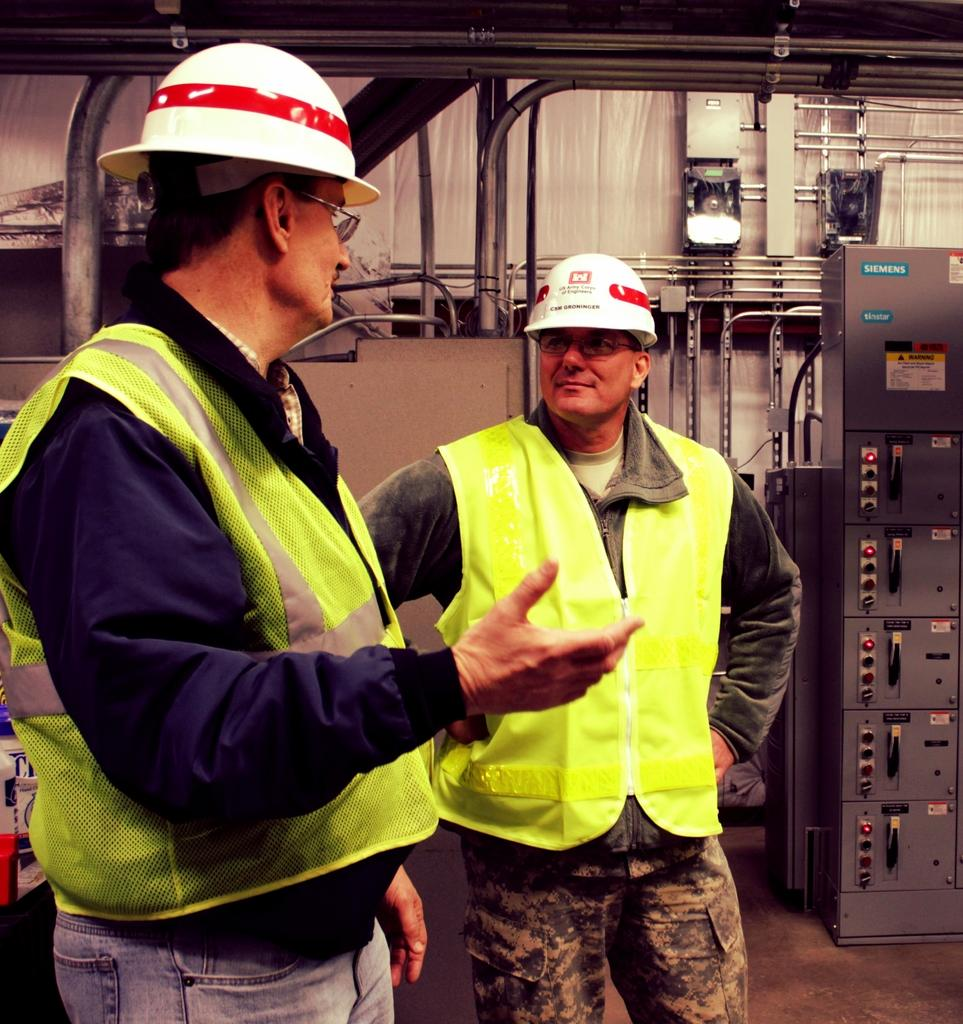helmet: (96, 42, 381, 324), (523, 253, 658, 416)
